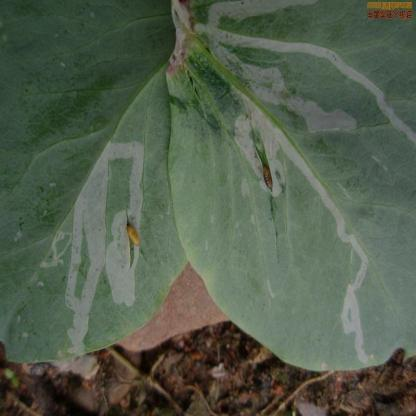whorl-maggot: (256, 162, 284, 198), (121, 219, 144, 252)
